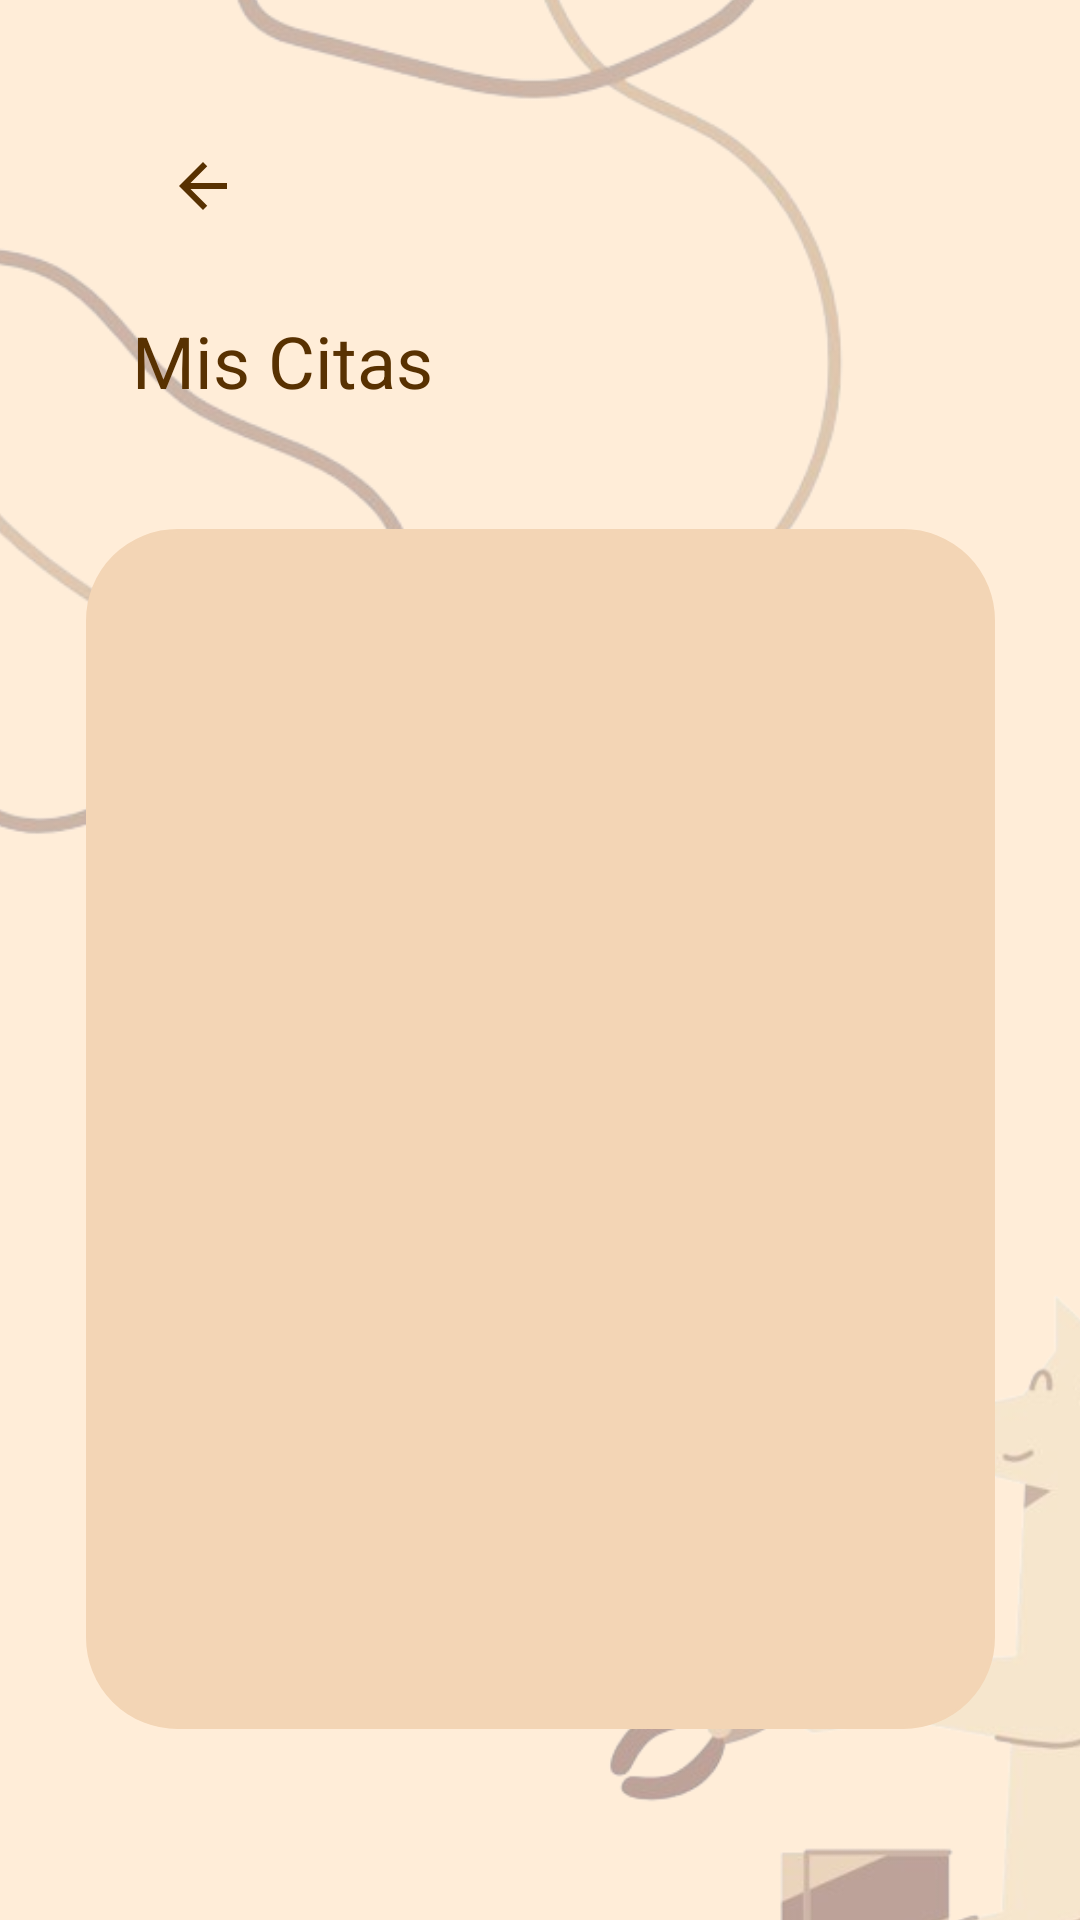

Icon bounding boxes for this 1080 × 1920 phone screenshot, format rect(x1, y1, x2, y2):
arrow back: rect(179, 162, 227, 210)
